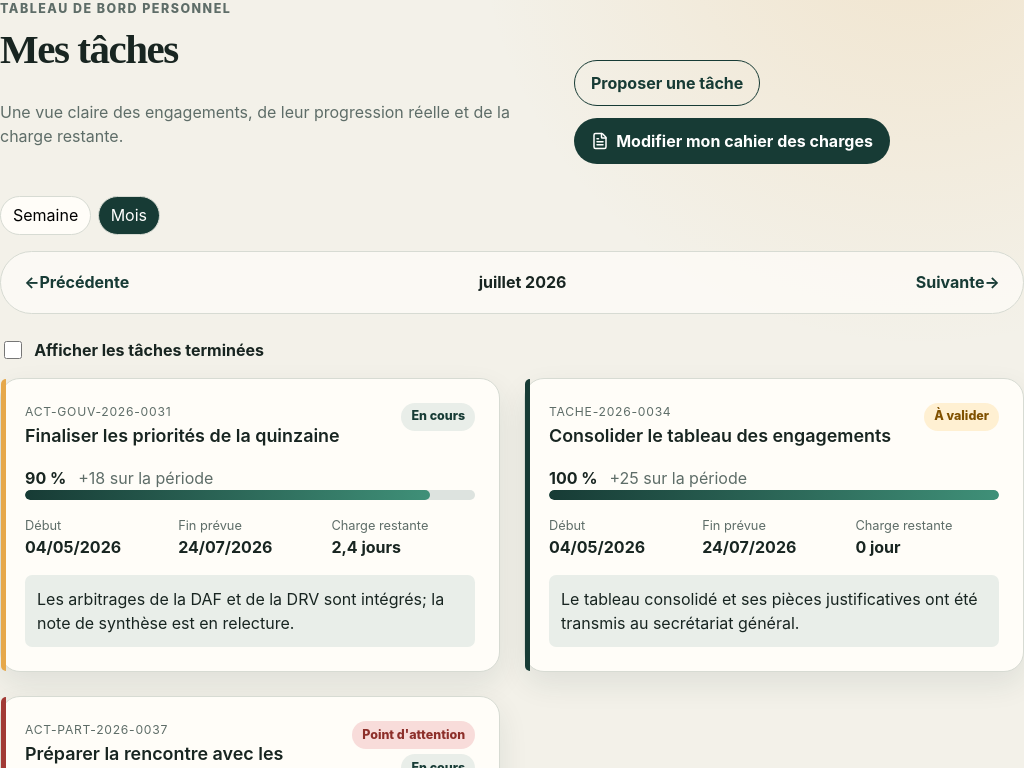
Test case: masque les tâches terminées jusqu'à leur ouverture
Expected: the text "Tâche déjà terminée" is not shown
Click the checkbox labelled "Afficher les tâches terminées": (13, 350) [4, 341, 22, 359]
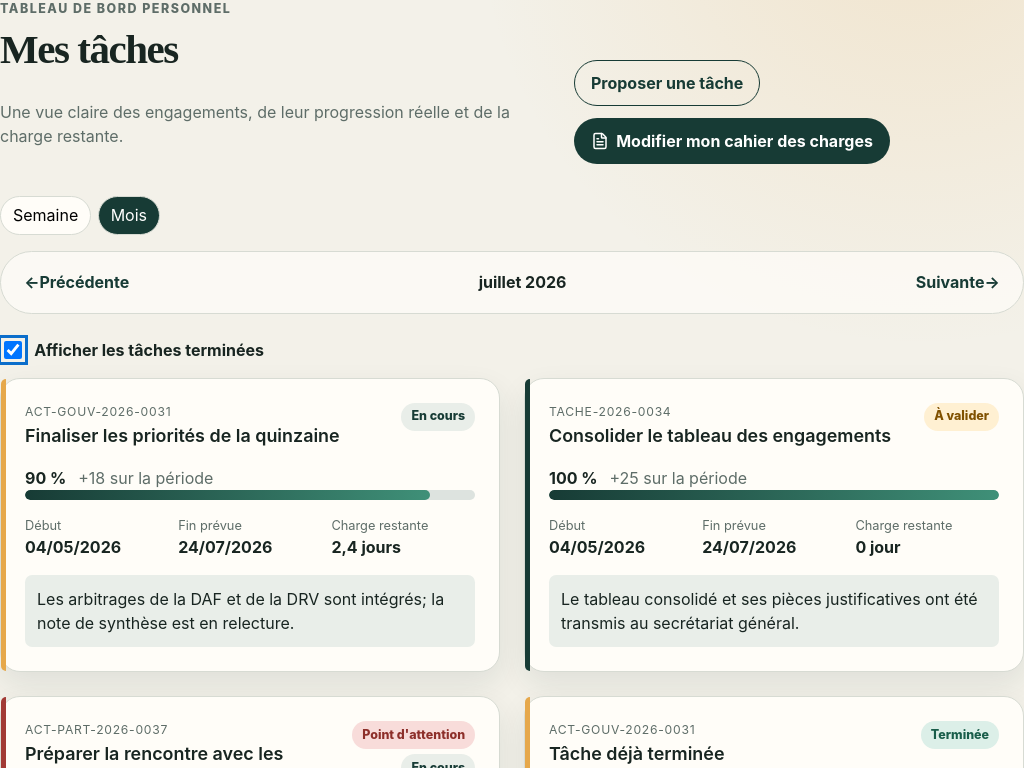
Expected: the link "Tâche déjà terminée" is shown, [549, 743, 724, 764]
